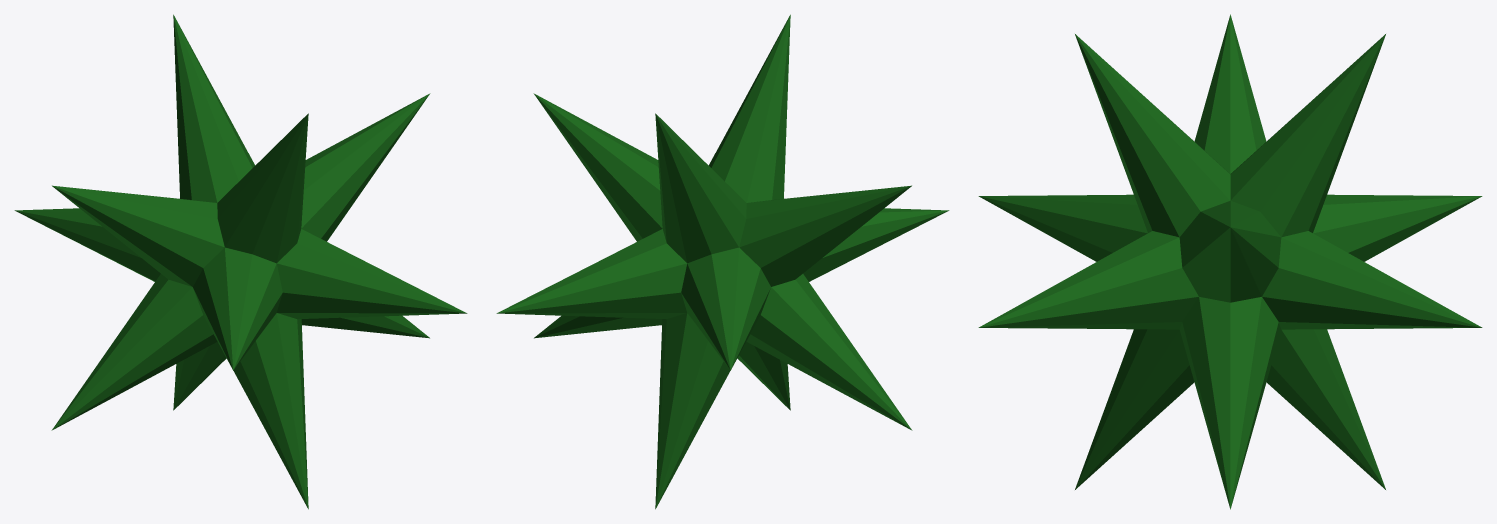
File: MedialDisdyakisTriacontahedronL.obj
The picture shows the model from 3 angles, left to right: view 1: azimuth 30°, elevation 25°; view 2: azimuth 150°, elevation 25°; view 3: azimuth 270°, elevation 25°; orthographic projection. The views are drawn at different scales.
Bounding box in the file's own units: 11.71 × 11.71 × 11.71.
